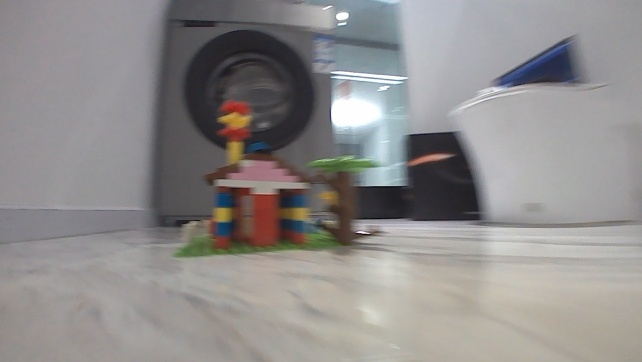plastic_toy: (169, 96, 387, 257)
toilet: (445, 78, 641, 225)
washing_machine: (154, 0, 333, 227)
